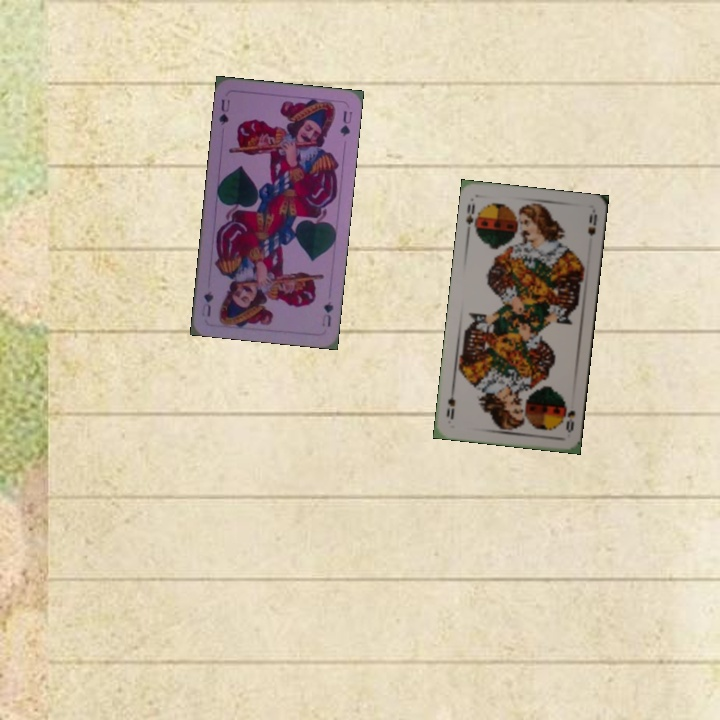GU: (215, 95, 233, 128), (318, 298, 336, 329)
SO: (462, 195, 481, 237), (560, 397, 578, 435)
